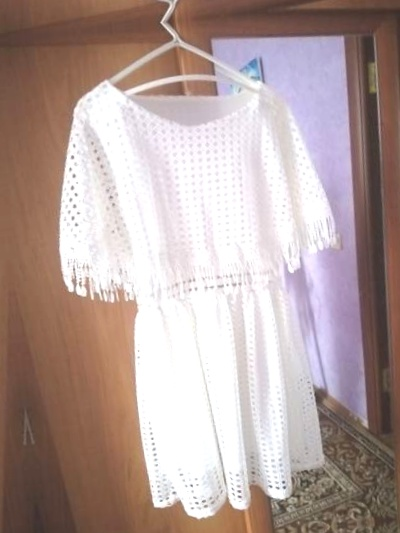Dress: (41, 41, 366, 533), (0, 0, 306, 1)
